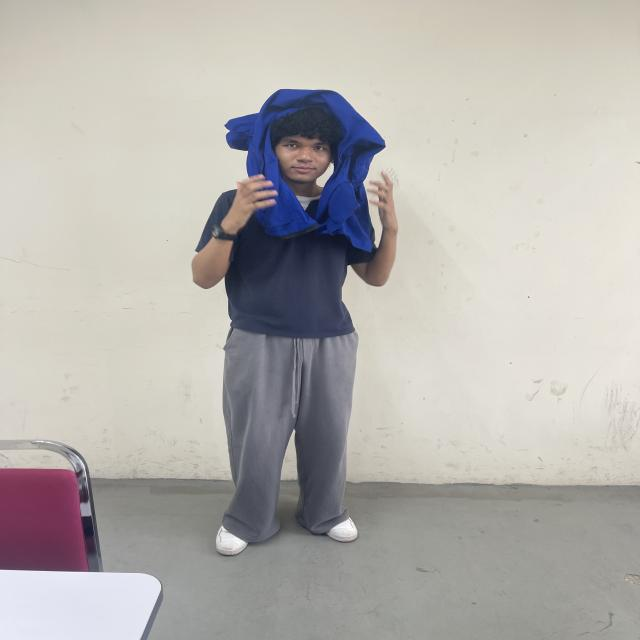person_without_labcoat: (192, 89, 398, 556)
